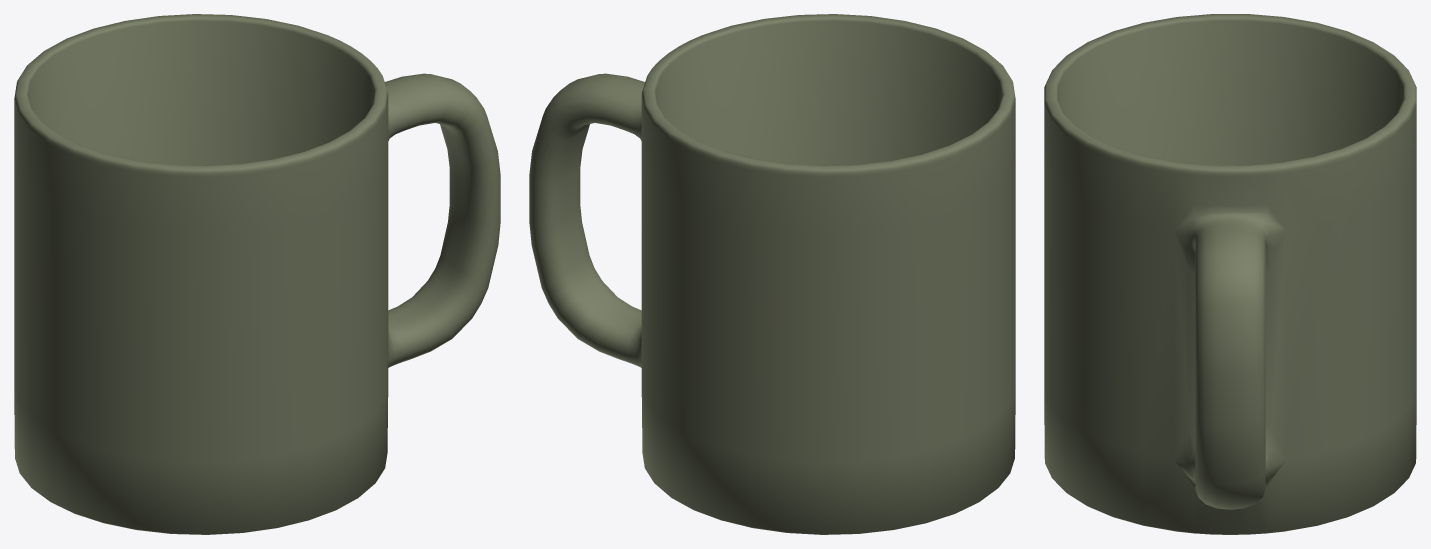
The model's file is cup-bardak.fbx.
3 renders of one model, left to right at view 1: azimuth 30°, elevation 25°; view 2: azimuth 150°, elevation 25°; view 3: azimuth 270°, elevation 25°, orthographic.
Visible parts, largest first — view 1: cup_lp; view 2: cup_lp; view 3: cup_lp.
Boxes of the visible parts, left/top/right/bottom form: cup_lp: left=14, top=14, right=500, bottom=534; cup_lp: left=529, top=14, right=1015, bottom=534; cup_lp: left=1044, top=14, right=1416, bottom=534.
Bounding box in the file's own units: 186 × 144 × 133.
